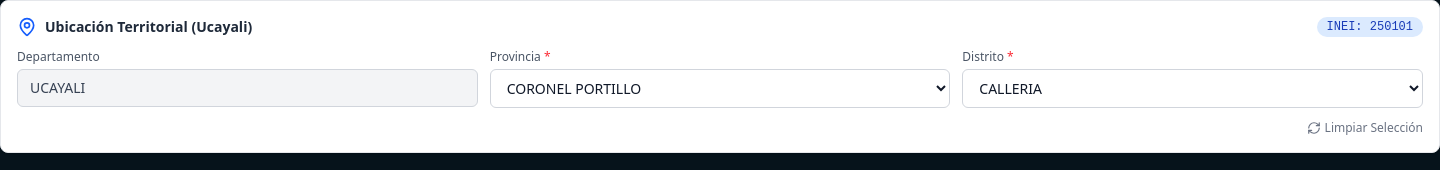
it: Suite de Pruebas de Renderizado de UbigeoSelector (ENT-M01-02 / ENT-M01-05) › Al hacer clic en el botón 'Limpiar Selección' (aria-label='Restablecer selección de Ubigeo'), la provincia y el distrito seleccionados vuelven a estado vacío en
Check: the dropdown named "Seleccionar Provincia de Ucayali" shows "CORONEL PORTILLO", box [490,69,950,108]
Check: the dropdown named "Seleccionar Distrito" shows "CALLERIA", box [962,69,1423,108]
Click the button with aria-label "Restablecer selección de Ubigeo" at (1365, 128), box [1307,120,1423,136]
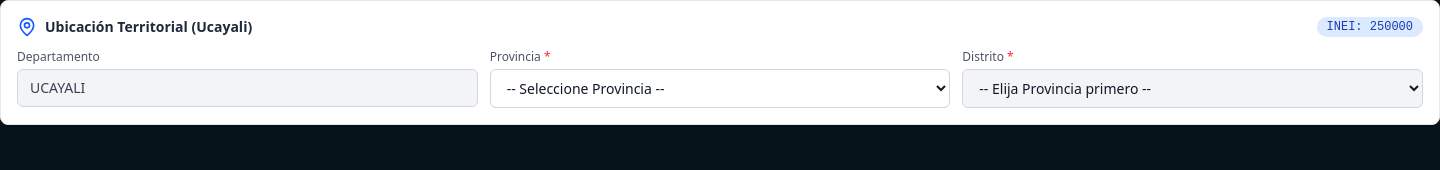
Check: the dropdown named "Seleccionar Provincia de Ucayali" shows "-- Seleccione Provincia --", box [490,69,950,108]
Check: the dropdown named "Seleccionar Distrito" shows "-- Elija Provincia primero --", box [962,69,1423,108]
